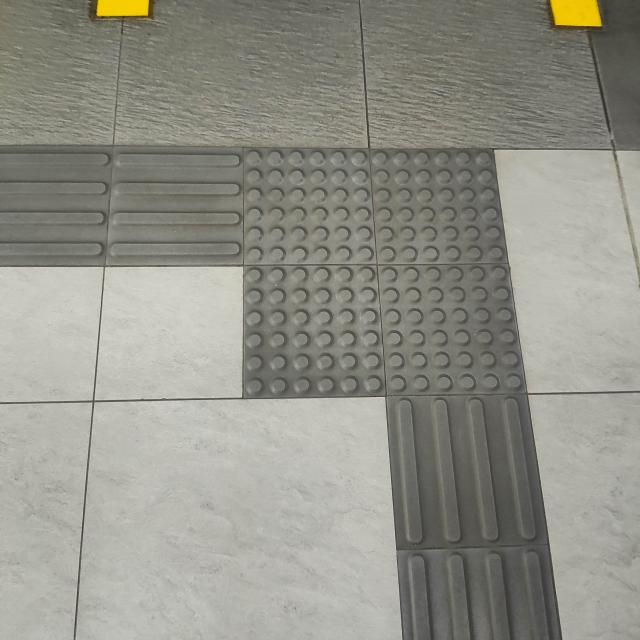kiri: (20, 85, 627, 495)
